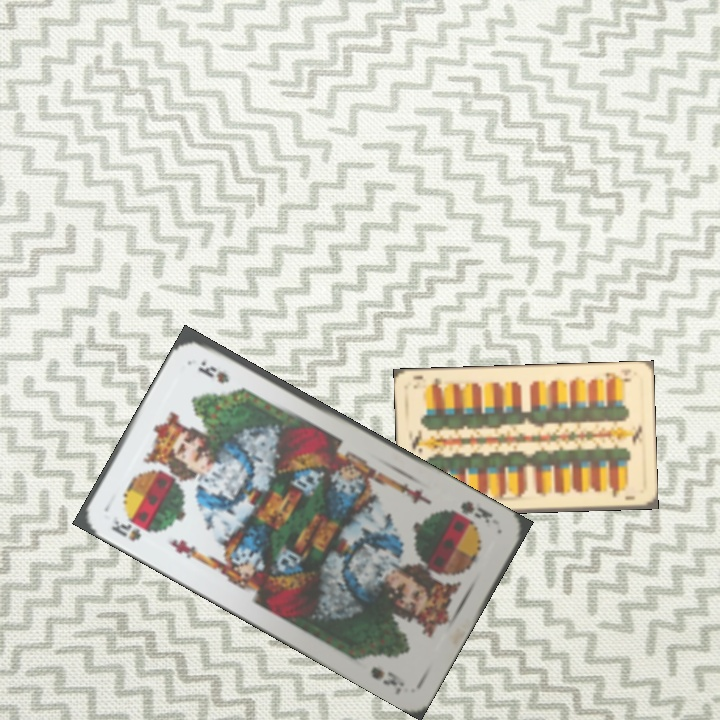E10: (601, 368, 634, 385)
SK: (456, 496, 496, 526), (107, 516, 144, 545)
